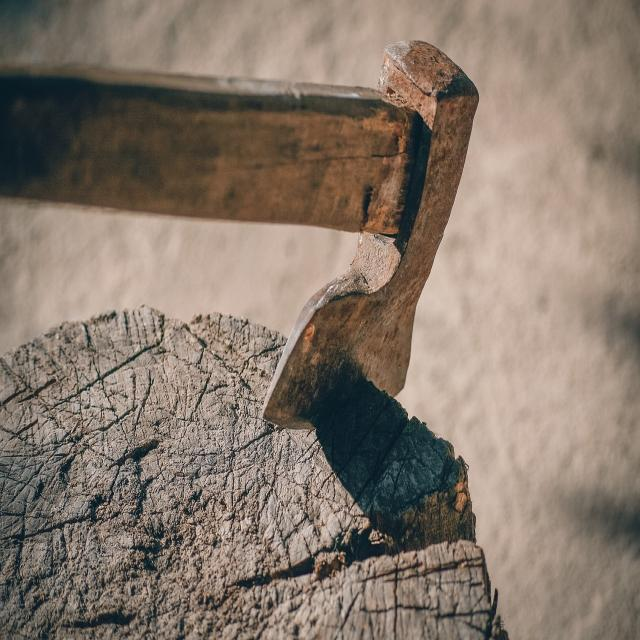Axe: (1, 41, 479, 428)
